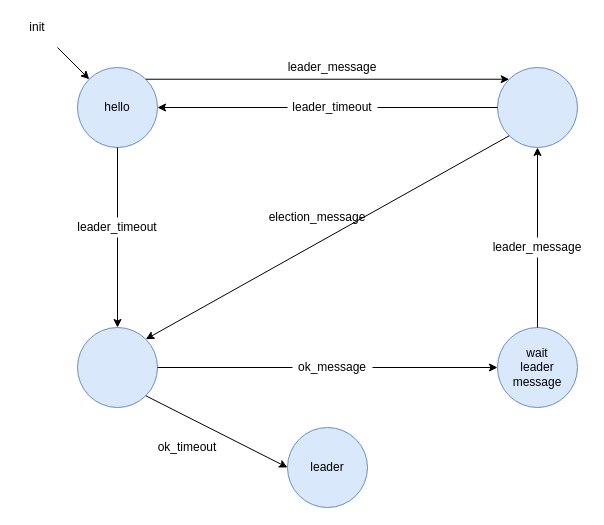
This 604x525 diagram has some shape labels left out. Each missing label, with the centre of its shape:
"election" goes at (x=117, y=367).
"slave" goes at (x=537, y=107).
